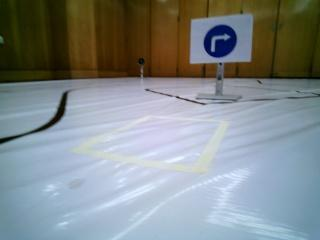right: (194, 20, 247, 61)
